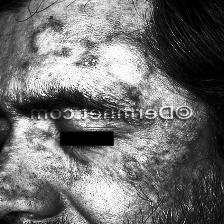Unclassified: (18, 20, 145, 86), (134, 126, 198, 170), (40, 156, 120, 184), (15, 132, 51, 172)
